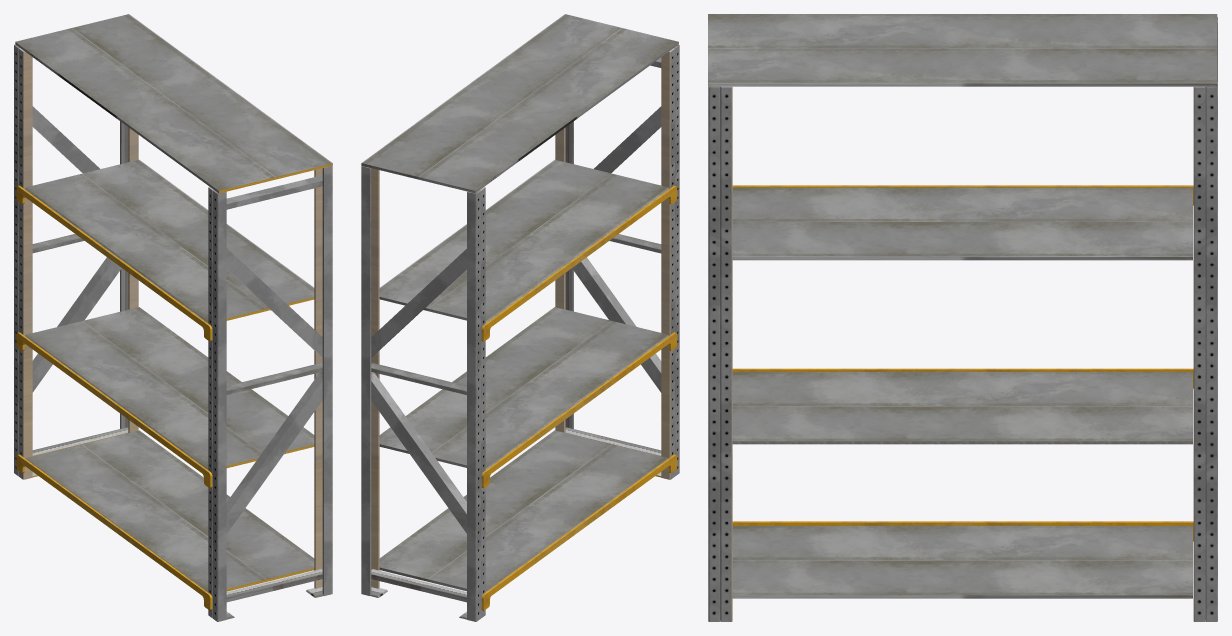
File: Shelf.fbx
3 renders of one model, left to right at view 1: azimuth 30°, elevation 25°; view 2: azimuth 150°, elevation 25°; view 3: azimuth 270°, elevation 25°, orthographic. The views are drawn at different scales.
Parts seen in each view (by area): view 1: Shelf; view 2: Shelf; view 3: Shelf.
Part boxes in pixels (bbox=[...]): Shelf: bbox=[14, 14, 332, 621]; Shelf: bbox=[361, 14, 679, 621]; Shelf: bbox=[708, 14, 1217, 621].
Size of the model in its own units: 70.21 by 245 by 210.
